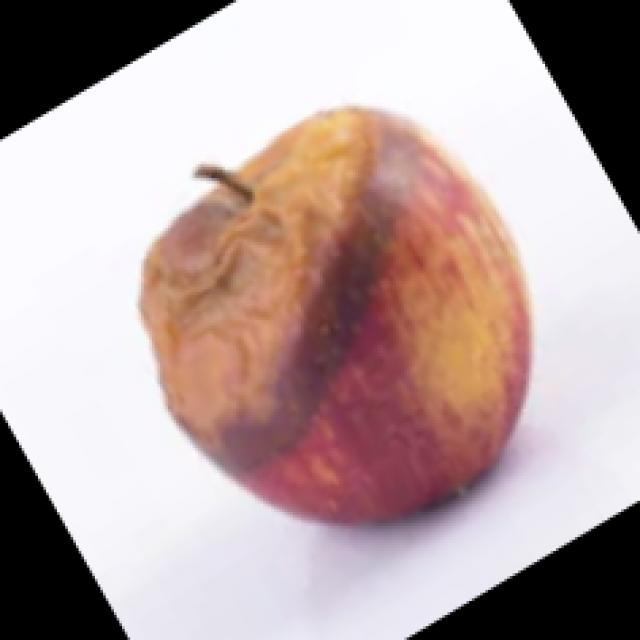Rotten: (128, 109, 545, 544)
